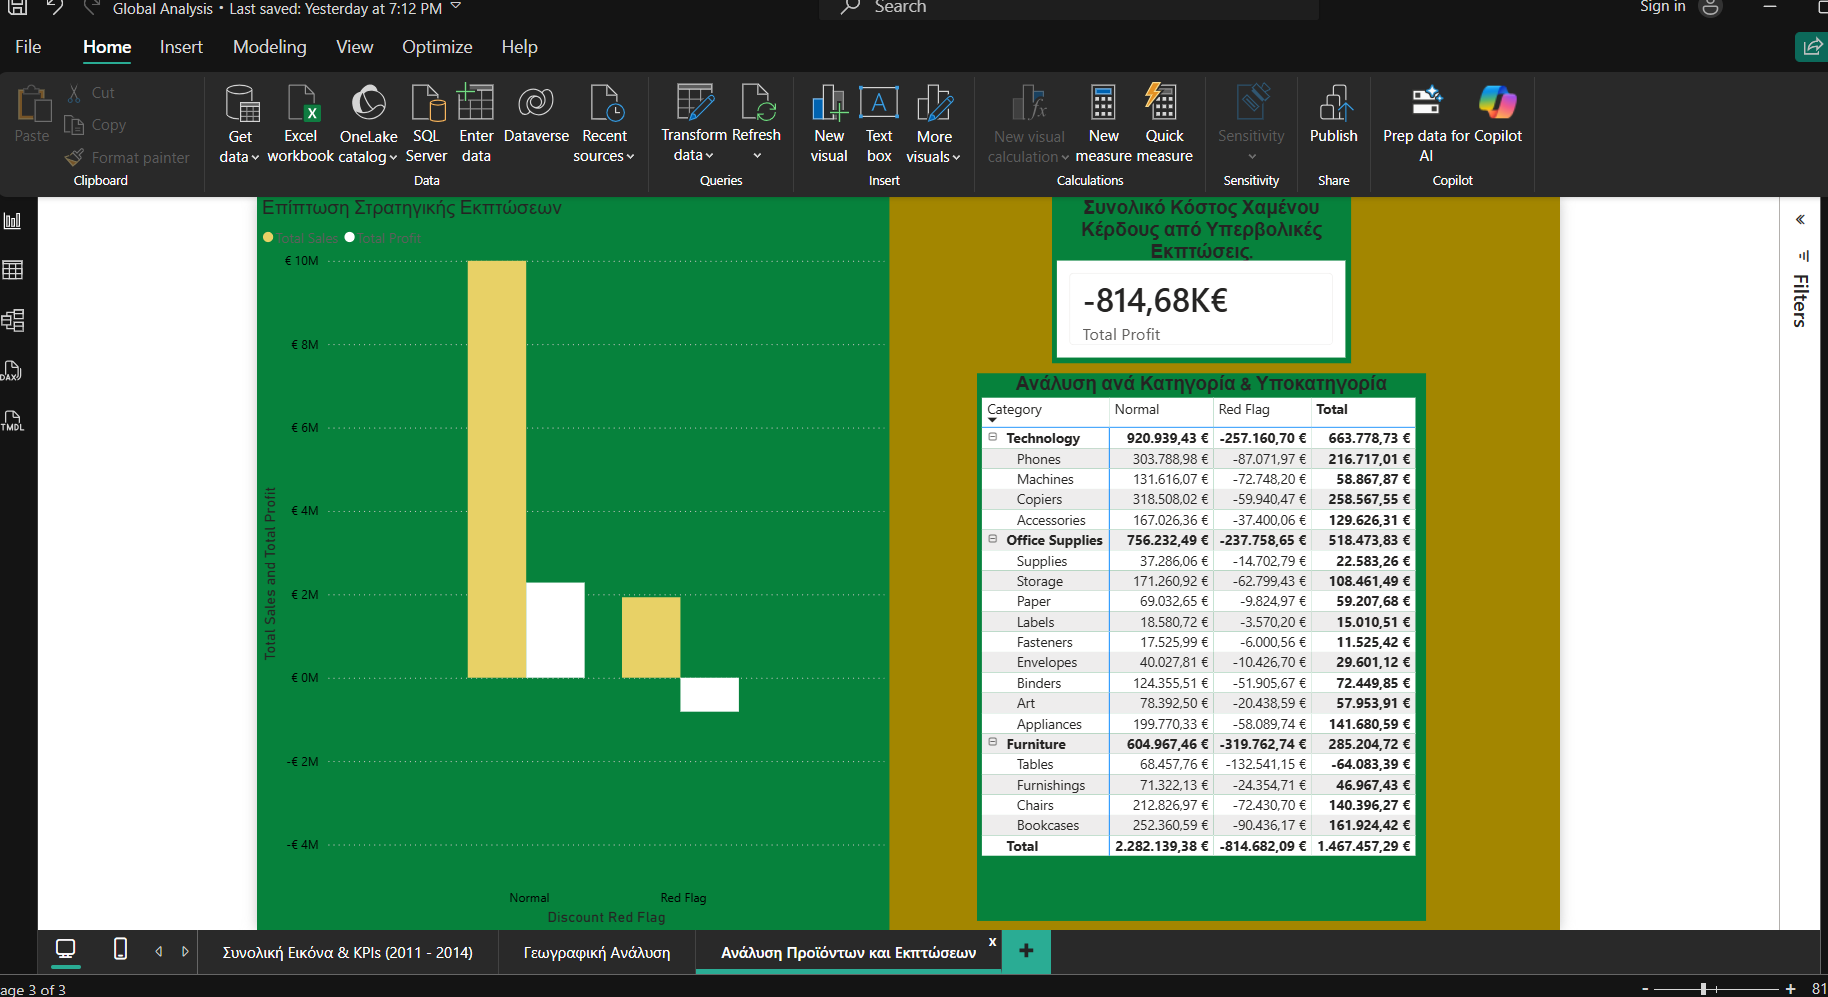

Layout of this report page (visuals, bound fields, positions):
{"tool":"powerbi","page":{"name":"Ανάλυση Προϊόντων και Εκπτώσεων","canvas":[1280,720],"ordinal":2},"visuals":[{"type":"clusteredColumnChart","title":"Επίπτωση Στρατηγικής Εκπτώσεων","fields":{"Category":["Global.Discount Red Flag"],"Y":["_Measures.Total Sales","_Measures.Total Profit"]},"box":[0,0,620.9,720.2],"z":0},{"type":"pivotTable","title":"Ανάλυση ανά Κατηγορία & Υποκατηγορία","fields":{"Rows":["Global.Category","Global.Sub-Category"],"Columns":["Global.Discount Red Flag"],"Values":["_Measures.Total Profit"]},"box":[706.7,172.9,440.5,537.9],"z":1},{"type":"cardVisual","title":"Συνολικό Κόστος Χαμένου Κέρδους από Υπερβολικές Εκπτώσεις.","fields":{"Data":["_Measures.Total Profit"]},"box":[780.8,0,293.7,163.3],"z":2}]}

Visuals, with their boxes on the page's 1280x720 design canvas (x1, y1, x2, y2). These are canvas units, not pixel positions in the 1828x997 screenshot, which may show the page scaled, cropped or inside an application window:
"Επίπτωση Στρατηγικής Εκπτώσεων" clusteredColumnChart: (0, 0, 621, 720)
"Ανάλυση ανά Κατηγορία & Υποκατηγορία" pivotTable: (707, 173, 1147, 711)
"Συνολικό Κόστος Χαμένου Κέρδους από Υπερβολικές Εκπτώσεις." cardVisual: (781, 0, 1074, 163)
